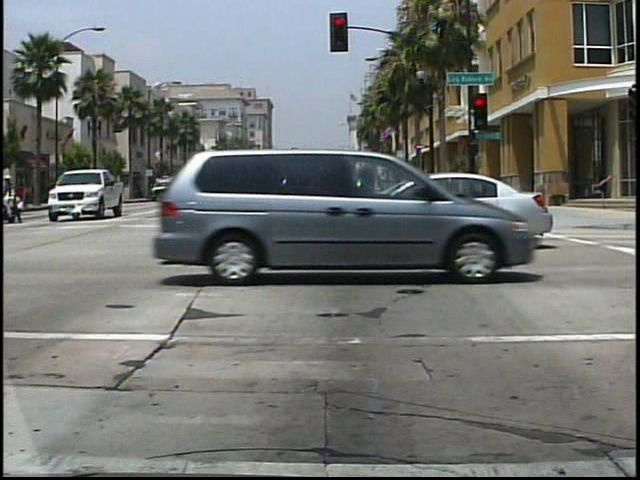person: (3, 169, 32, 229)
